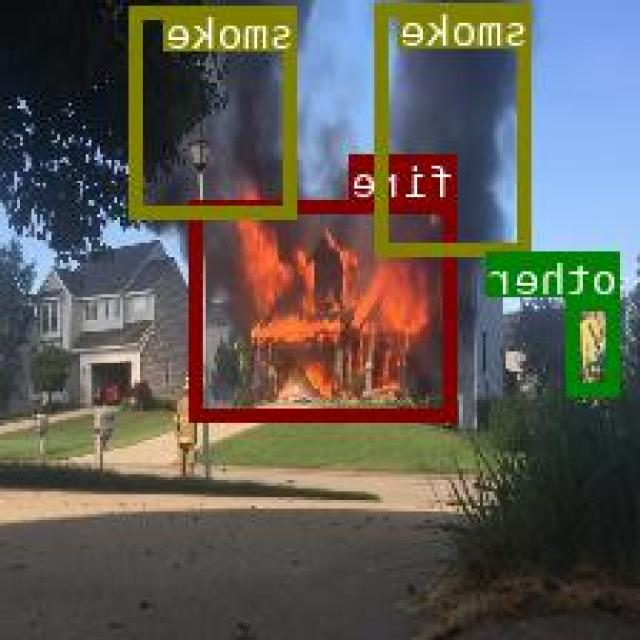fire: (194, 198, 458, 419)
other: (569, 296, 621, 394)
smoke: (379, 2, 533, 252), (133, 3, 300, 216)
